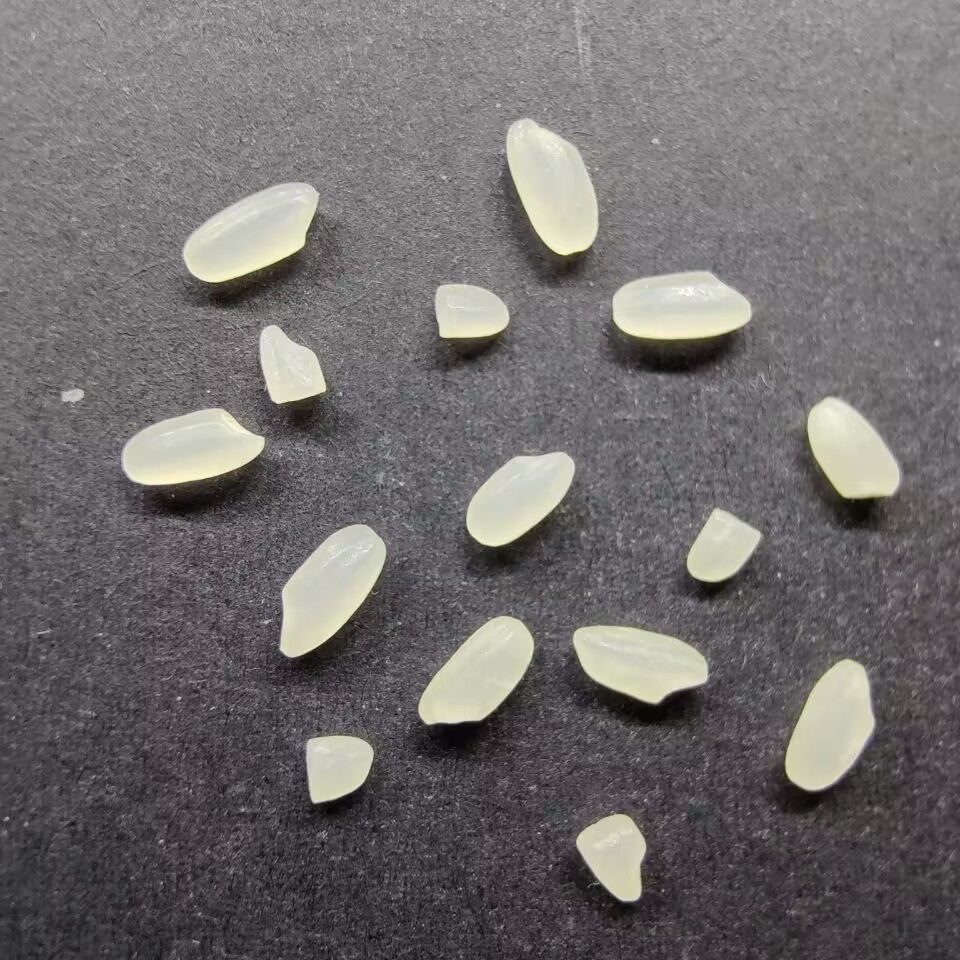broken: (576, 812, 648, 905), (256, 323, 329, 406), (685, 505, 762, 583), (303, 732, 374, 807), (433, 283, 511, 341)
rice: (276, 520, 388, 659), (181, 180, 321, 284), (502, 117, 600, 257), (416, 615, 534, 727), (783, 657, 877, 792), (119, 404, 267, 486), (463, 448, 575, 549), (570, 625, 710, 705), (610, 268, 755, 341), (804, 395, 901, 501)
